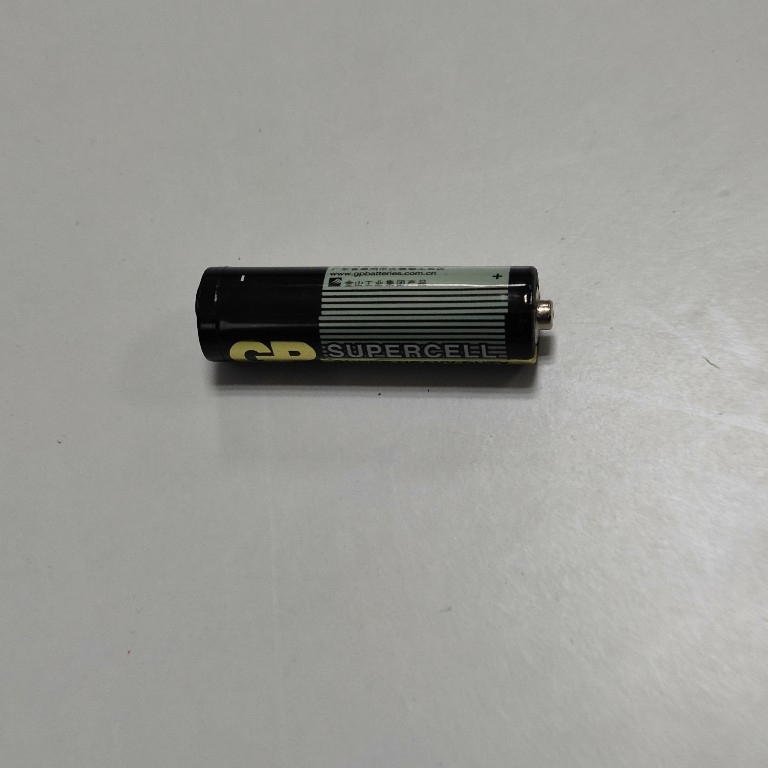charge: (188, 260, 557, 373)
